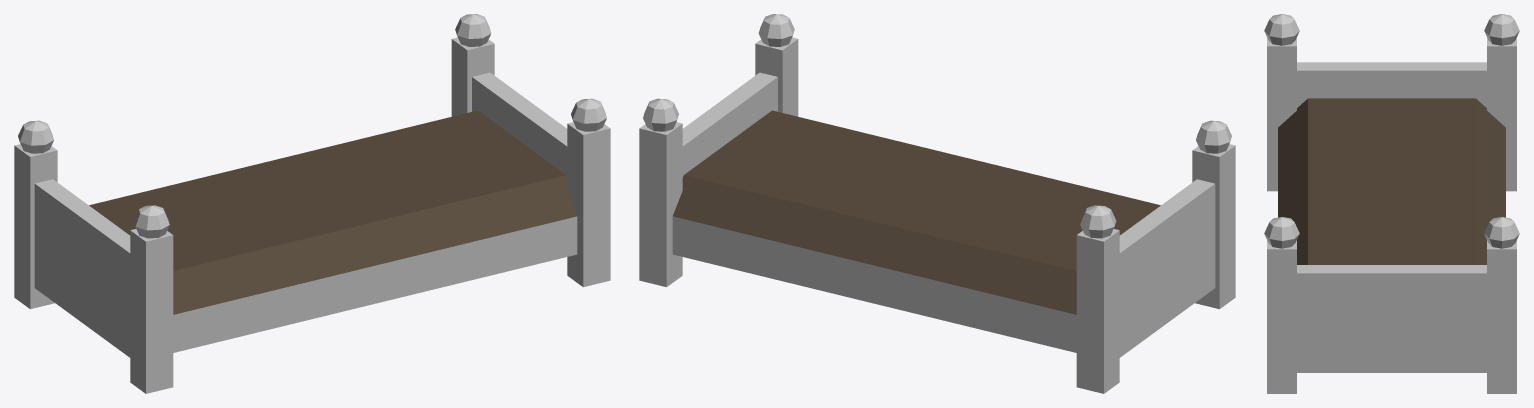
Rendered from BEDHIGH_NW_EDEL_01.OBJ.
3 views of the same model, side by side, from view 1: azimuth 30°, elevation 25°; view 2: azimuth 150°, elevation 25°; view 3: azimuth 270°, elevation 25° (orthographic). The views are drawn at different scales.
Parts seen in each view (by area): view 1: BEDHIGH_NW_EDEL_01; view 2: BEDHIGH_NW_EDEL_01; view 3: BEDHIGH_NW_EDEL_01.
Boxes of the visible parts, bbox=[...] form: BEDHIGH_NW_EDEL_01: bbox=[14, 14, 610, 393]; BEDHIGH_NW_EDEL_01: bbox=[639, 14, 1235, 393]; BEDHIGH_NW_EDEL_01: bbox=[1264, 14, 1519, 393].
Bounding box in the file's own units: 2.58 × 0.9393 × 1.28.
